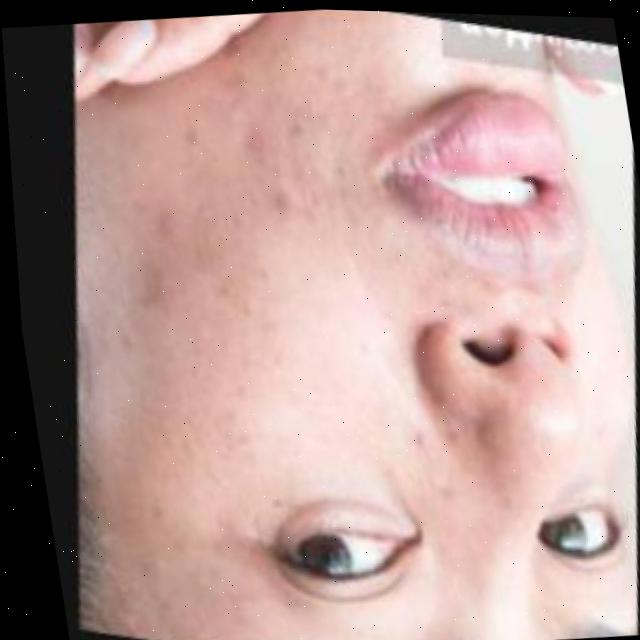Acne: (141, 56, 445, 464)
